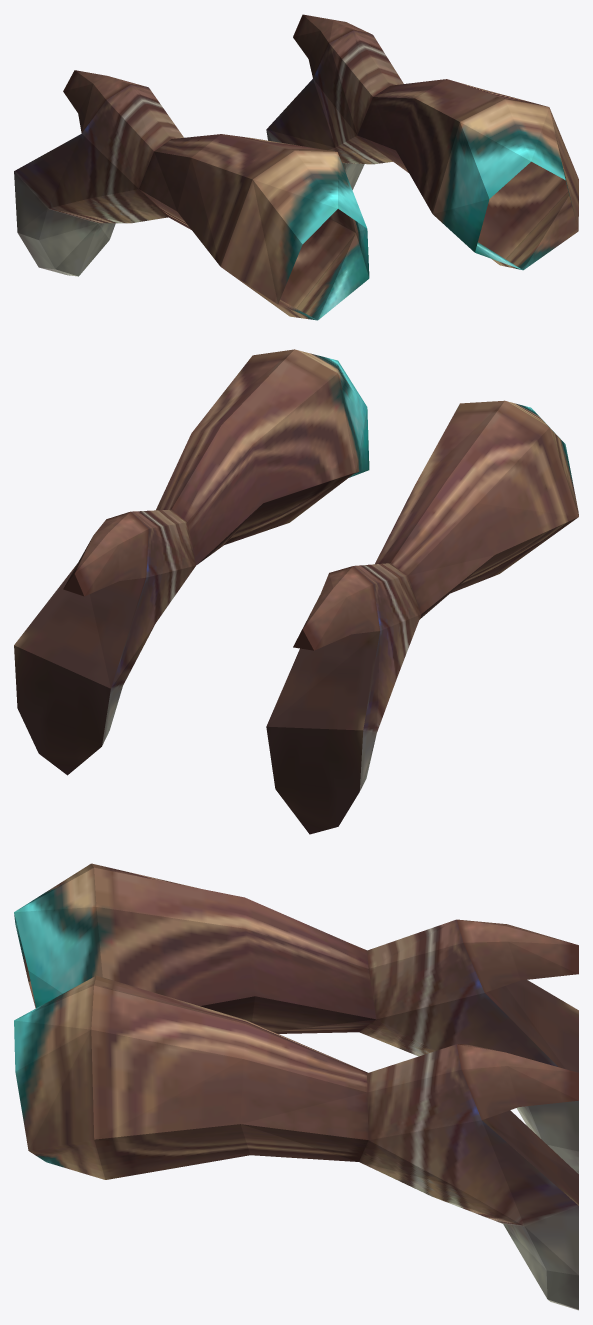
File: archer_shoe_female_98700.obj
3 views of the same model, one above another, from view 1: azimuth 30°, elevation 25°; view 2: azimuth 150°, elevation 25°; view 3: azimuth 270°, elevation 25° (orthographic). The views are drawn at different scales.
Parts seen in each view (by area): view 1: archer_shoe_female_98700; view 2: archer_shoe_female_98700; view 3: archer_shoe_female_98700.
Part boxes in pixels (bbox=[...]): archer_shoe_female_98700: bbox=[14, 14, 578, 320]; archer_shoe_female_98700: bbox=[14, 349, 578, 834]; archer_shoe_female_98700: bbox=[14, 863, 578, 1310].
Size of the model in its own units: 18.83 by 13.82 by 22.4.
Materials: 1 (1 with a texture image).
